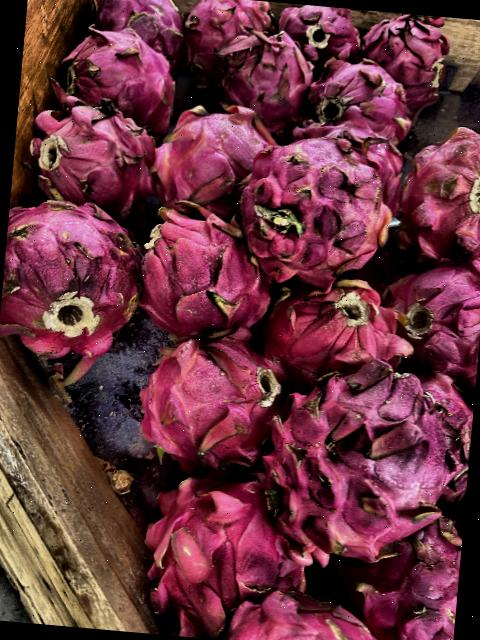buah-naga-matang: (253, 366, 457, 556), (128, 466, 313, 640), (228, 128, 394, 292), (124, 318, 292, 474), (130, 203, 292, 344), (0, 201, 137, 364), (14, 78, 161, 216), (264, 274, 418, 378), (145, 95, 267, 222), (55, 23, 183, 134), (202, 21, 316, 133), (353, 526, 462, 640), (381, 250, 480, 368), (400, 114, 480, 259), (298, 49, 420, 142), (349, 10, 452, 109), (77, 0, 189, 69), (176, 0, 277, 74), (280, 2, 366, 72)
